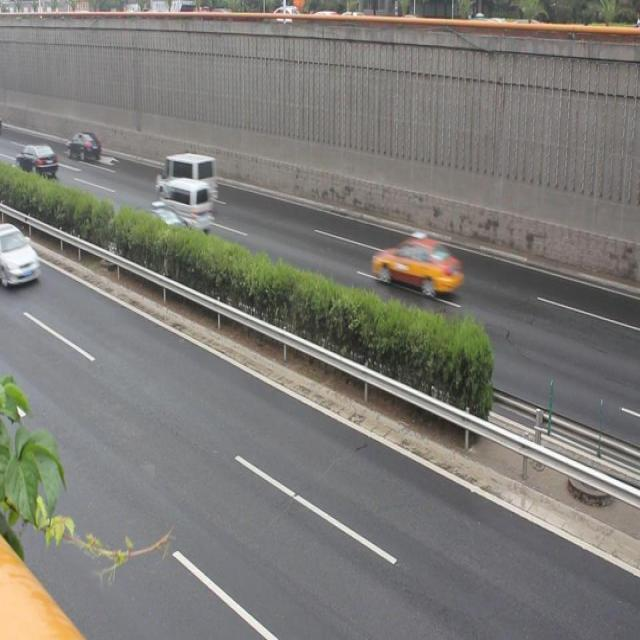car: (371, 234, 461, 298), (1, 222, 39, 302), (137, 201, 187, 255), (15, 138, 60, 184), (65, 124, 104, 165)
truck: (156, 148, 217, 203), (161, 176, 216, 232)
